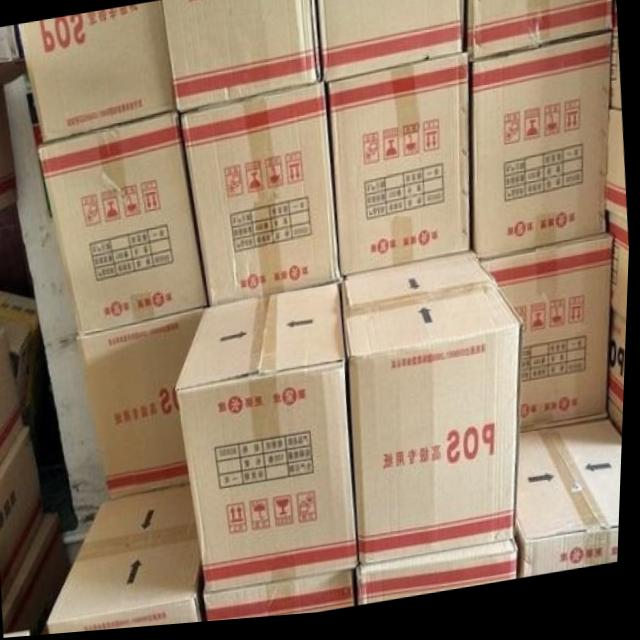box: (179, 285, 361, 596), (344, 257, 524, 568), (40, 114, 208, 337), (181, 88, 341, 309), (473, 41, 615, 268), (329, 60, 472, 282), (482, 242, 616, 440), (81, 311, 207, 502), (51, 485, 205, 635), (17, 4, 180, 142), (162, 0, 318, 113), (519, 424, 626, 585), (318, 0, 460, 88), (361, 546, 522, 609), (468, 0, 614, 65), (0, 427, 48, 616), (8, 511, 74, 637), (207, 570, 358, 625), (0, 285, 56, 427), (0, 321, 25, 479), (0, 86, 20, 214), (610, 218, 631, 334), (611, 322, 629, 444), (610, 114, 629, 227), (0, 56, 27, 88), (612, 36, 620, 120), (0, 25, 19, 59)
